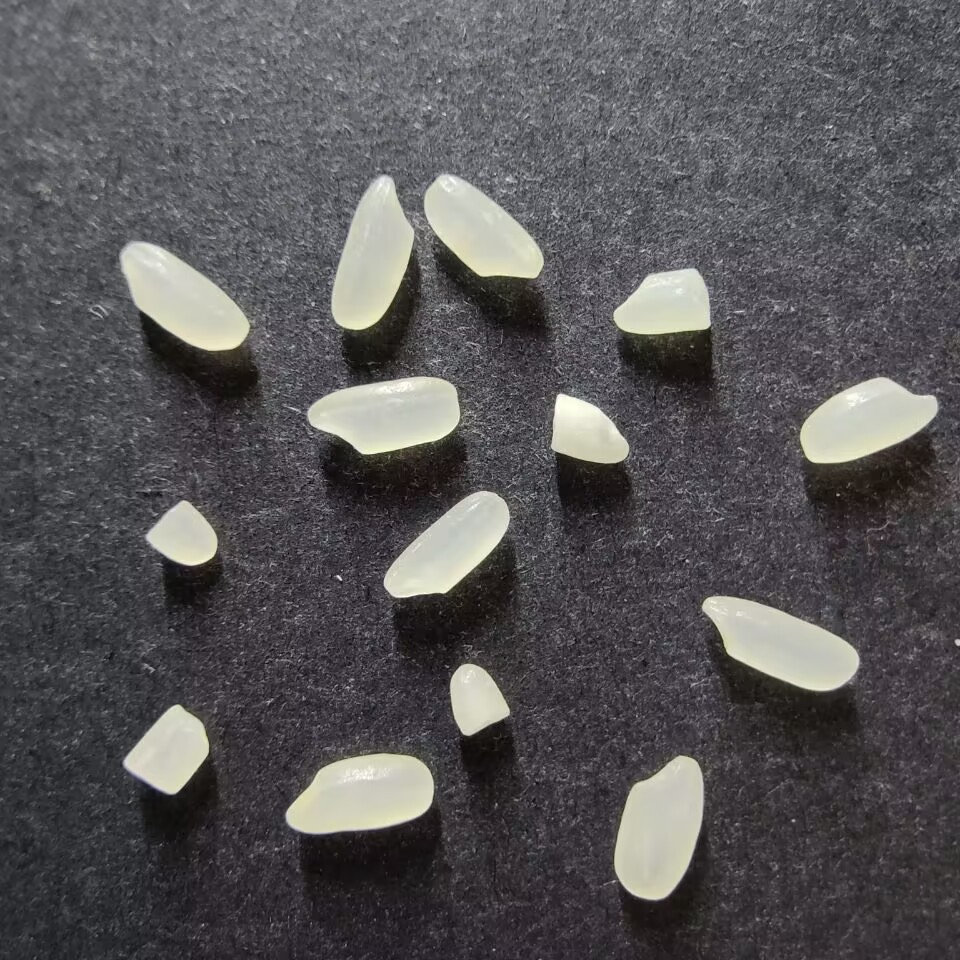broken: (122, 704, 209, 795), (612, 267, 711, 335), (550, 393, 629, 464), (145, 500, 217, 566), (449, 663, 509, 736)
rice: (700, 595, 859, 692), (119, 241, 249, 352), (382, 490, 509, 599), (613, 755, 704, 901), (330, 174, 414, 330), (423, 174, 544, 279), (798, 376, 938, 464), (306, 376, 460, 455), (284, 753, 434, 834)
